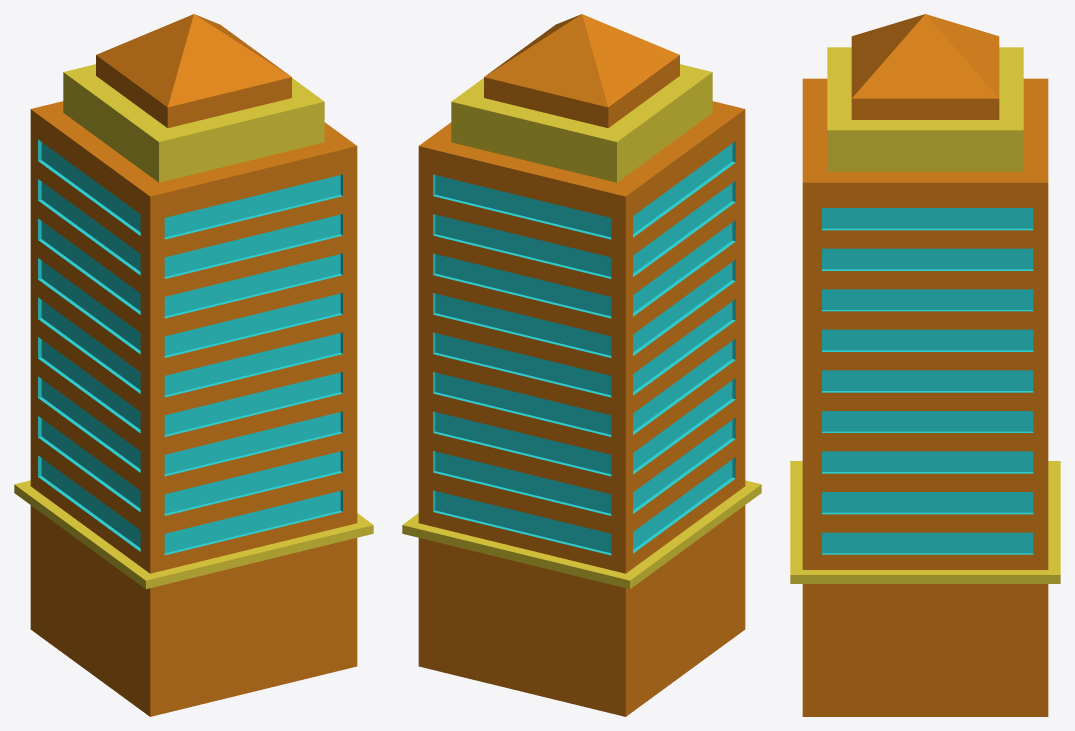
The model's file is lowploybuilding5.FBX.
The picture shows the model from 3 angles, left to right: view 1: azimuth 30°, elevation 25°; view 2: azimuth 150°, elevation 25°; view 3: azimuth 270°, elevation 25°; orthographic projection. The views are drawn at different scales.
Parts seen in each view (by area): view 1: Box001, Box002, Pyramid001, Box003; view 2: Box001, Box002, Pyramid001, Box003; view 3: Box001, Pyramid001, Box002, Box003.
Part boxes in pixels (x1,y1,x2,y2): Box001: (30, 101, 357, 716); Box002: (63, 64, 324, 182); Pyramid001: (96, 14, 291, 127); Box003: (14, 480, 373, 589); Box001: (418, 101, 745, 716); Box002: (451, 64, 712, 182); Pyramid001: (484, 14, 679, 127); Box003: (402, 480, 761, 589); Box001: (802, 78, 1048, 716); Pyramid001: (851, 14, 999, 119); Box002: (827, 47, 1023, 171); Box003: (790, 461, 1060, 583).
Size of the model in its own units: 108 by 288 by 108.
